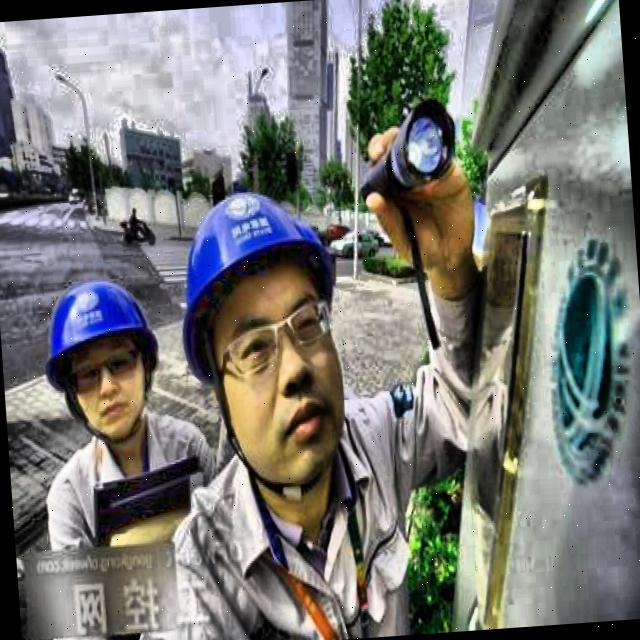helmet: (159, 164, 367, 506), (32, 254, 170, 456)
